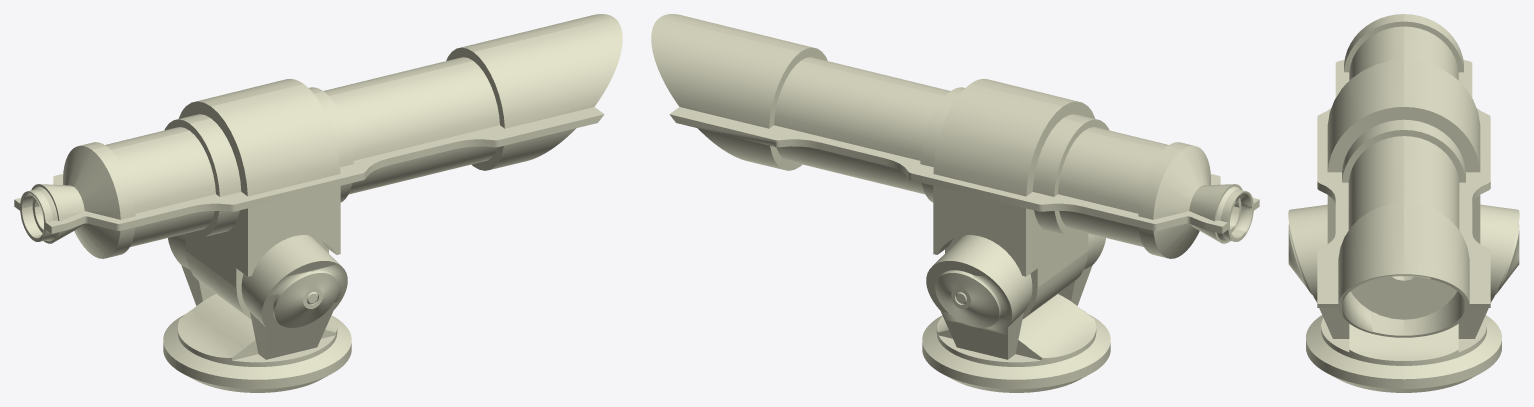
The model's file is KIJKER.dae.
3 views of the same model, side by side, from view 1: azimuth 30°, elevation 25°; view 2: azimuth 150°, elevation 25°; view 3: azimuth 270°, elevation 25° (orthographic). The views are drawn at different scales.
Parts seen in each view (by area): view 1: SketchUp (×39); view 2: SketchUp (×39); view 3: SketchUp (×46).
Part boxes in pixels (<box>): SketchUp (×39): <box>45,14,622,388</box>; SketchUp (×39): <box>651,14,1228,388</box>; SketchUp (×46): <box>1288,14,1519,392</box>.
Bounding box in the file's own units: 40.62 × 13.47 × 17.63.
